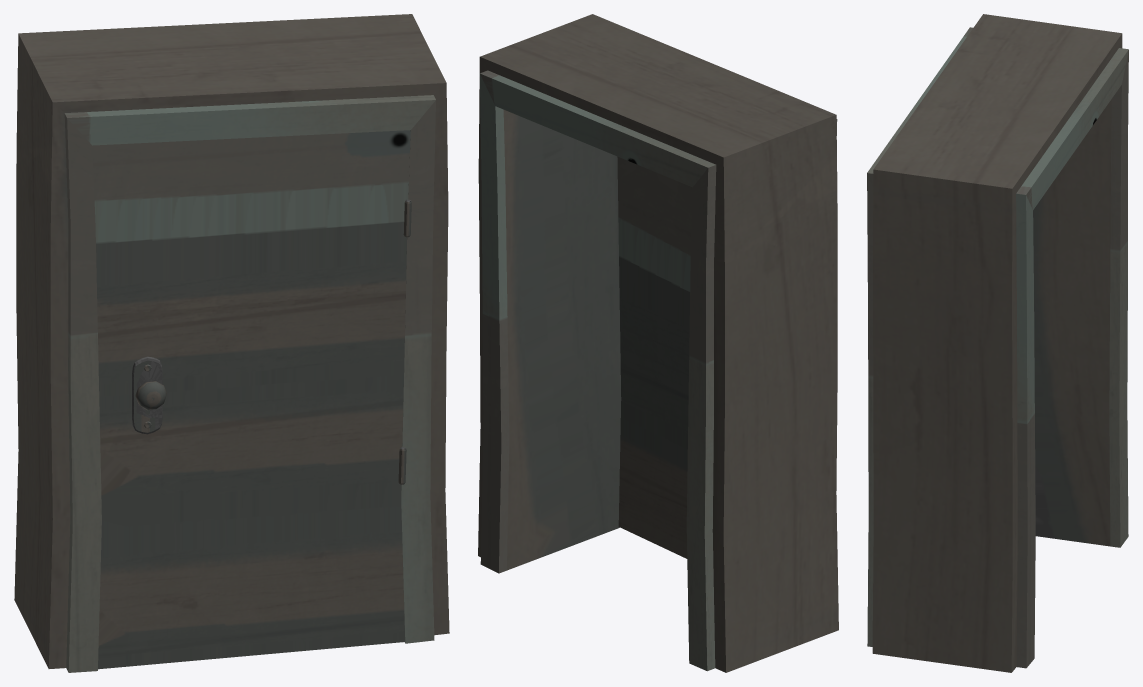
The model's file is BASEMENT_room_door.fbx.
3 views of the same model, side by side, from view 1: azimuth 30°, elevation 25°; view 2: azimuth 150°, elevation 25°; view 3: azimuth 270°, elevation 25° (orthographic). The views are drawn at different scales.
Parts seen in each view (by area): view 1: F_door_01.003, F_door_frame_01.003, F_door_handle_01.003; view 2: F_door_frame_01.003, F_door_01.003; view 3: F_door_frame_01.003.
Boxes of the visible parts, x1=… form: F_door_01.003: x1=92, y1=130, x2=410, y2=669; F_door_frame_01.003: x1=14, y1=14, x2=449, y2=672; F_door_handle_01.003: x1=135, y1=381, x2=166, y2=410; F_door_frame_01.003: x1=478, y1=14, x2=838, y2=672; F_door_01.003: x1=617, y1=156, x2=692, y2=558; F_door_frame_01.003: x1=867, y1=14, x2=1128, y2=672.
Bounding box in the file's own units: 148 × 210 × 100.
